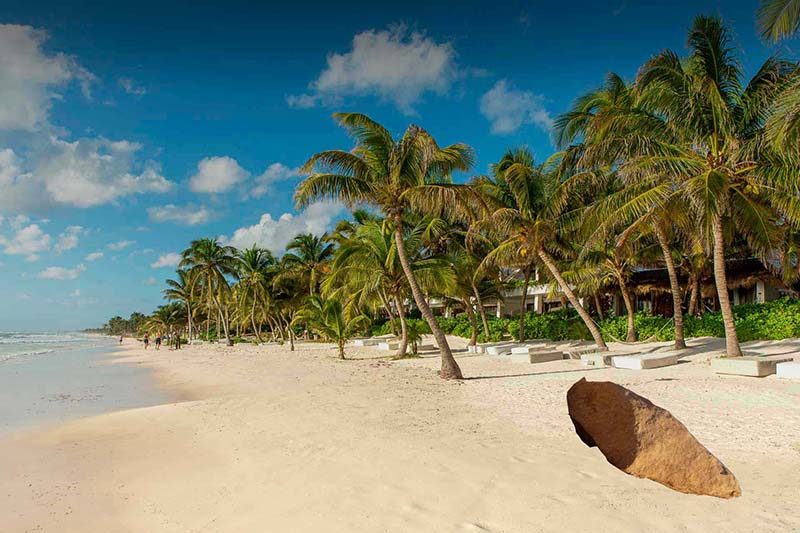Rocks: (560, 375, 746, 501)
